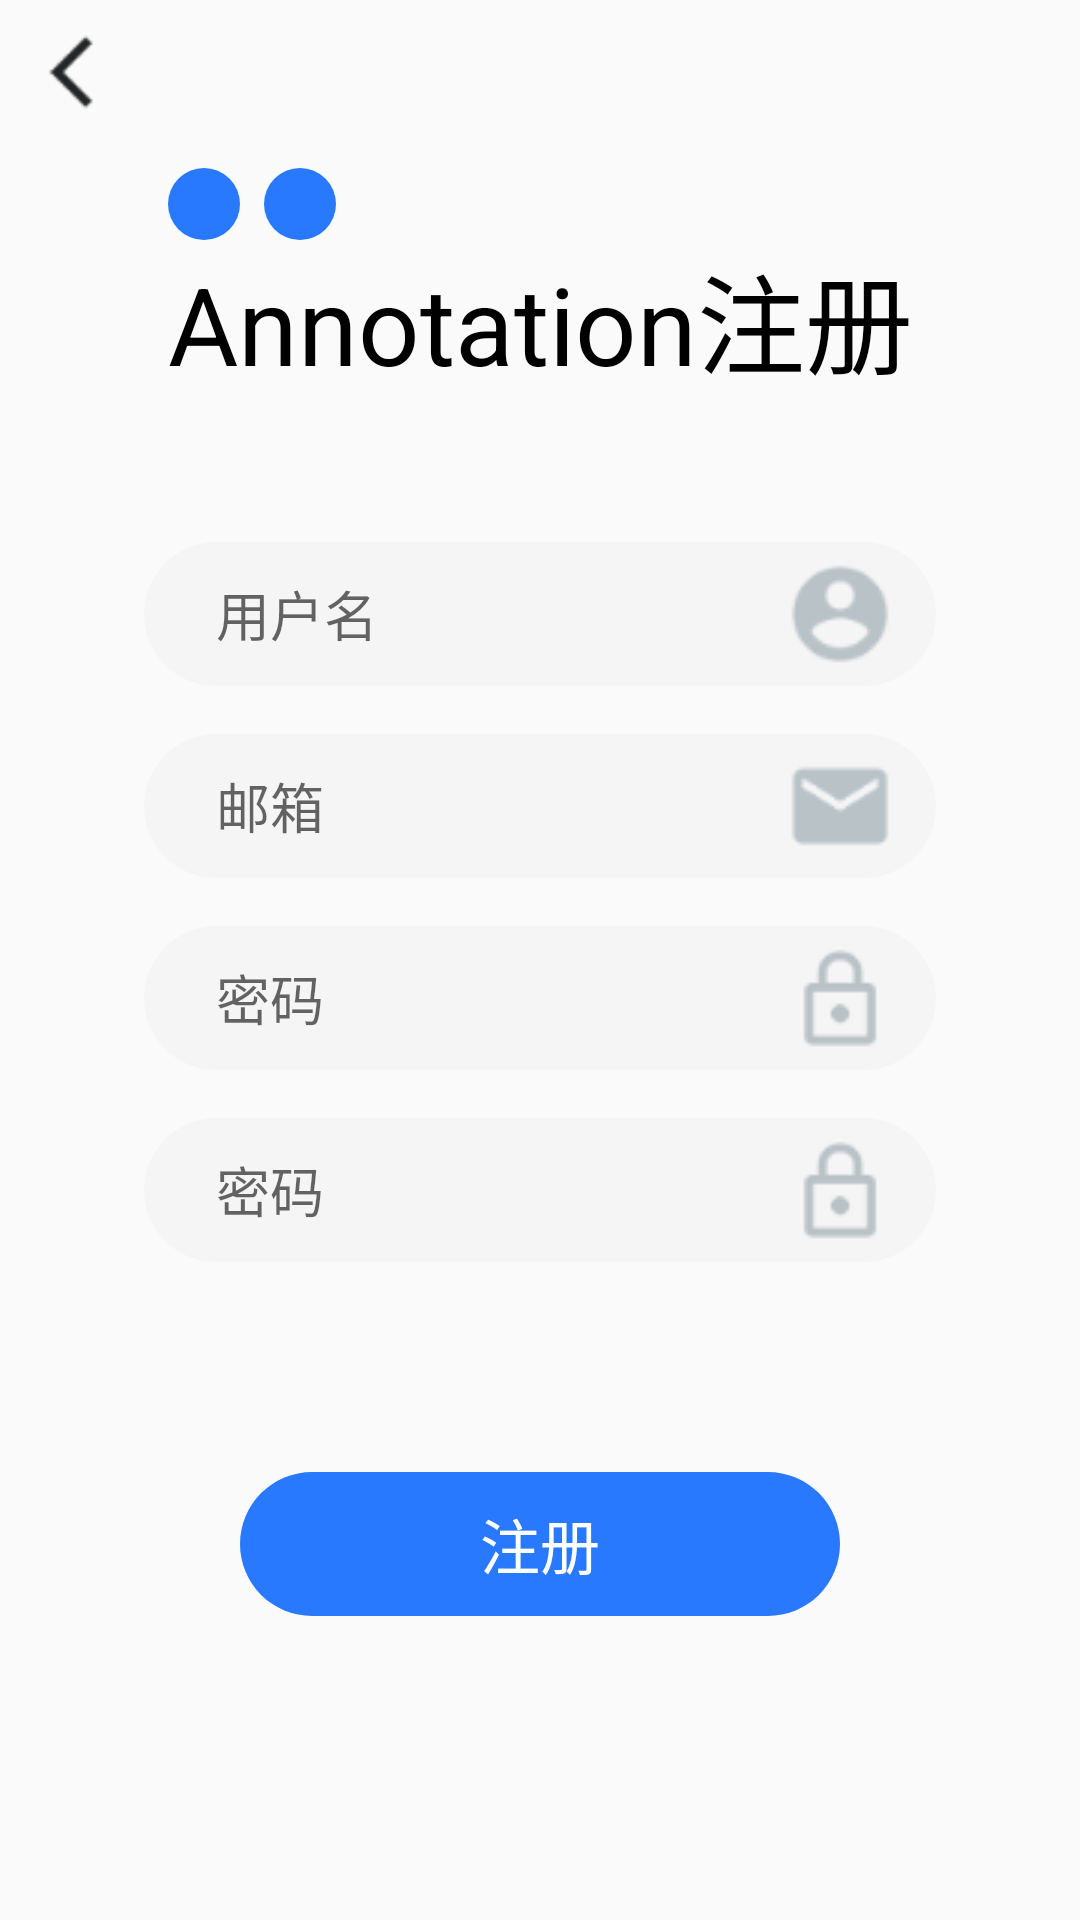

Named icons in this screenshot (1080*1920) and their bounding boxes, (x1,y1,x2,y2):
back: (49,36,93,108)
